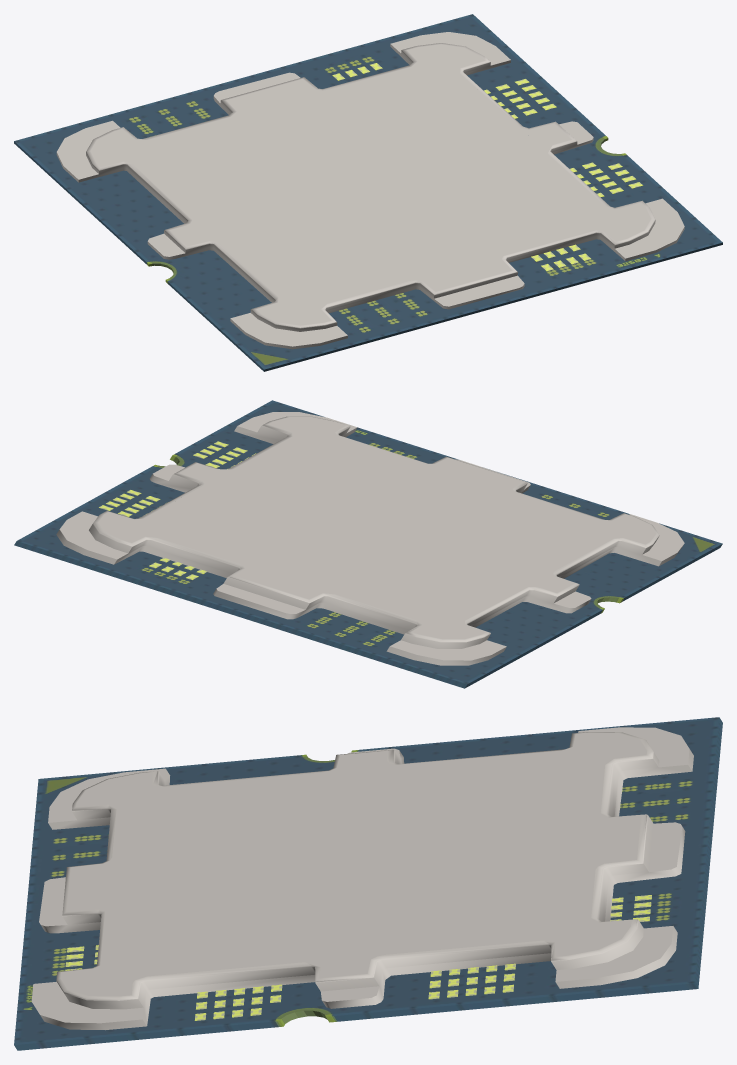
Rendered from cpu-amd-am5_lod1.glb.
The picture shows the model from 3 angles, top to bottom: view 1: azimuth 30°, elevation 25°; view 2: azimuth 150°, elevation 25°; view 3: azimuth 270°, elevation 25°; orthographic projection. The views are drawn at different scales.
Parts seen in each view (by area): view 1: body; view 2: body; view 3: body.
Part boxes in pixels (left/top/right/bottom): body: left=14, top=14, right=722, bottom=371; body: left=14, top=400, right=722, bottom=688; body: left=14, top=717, right=722, bottom=1050.
Bounding box in the file's own units: 0.04 × 0.0065 × 0.04.
Materials: 3 (2 with a texture image).
